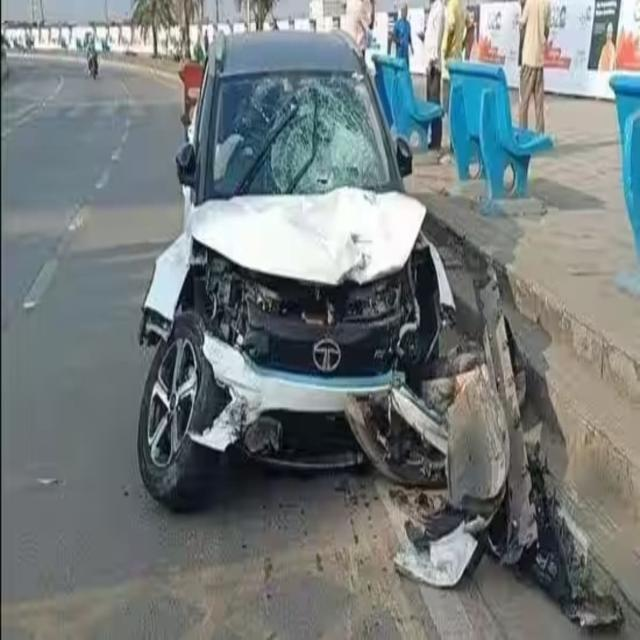accident: (138, 34, 620, 625)
